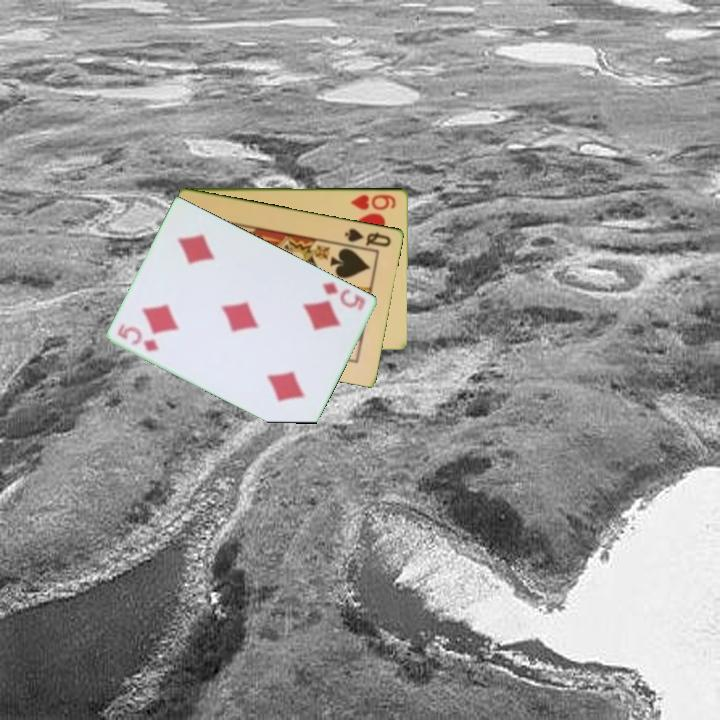5d: (319, 278, 369, 313), (114, 320, 163, 354)
6h: (347, 190, 399, 212)
Qs: (341, 224, 394, 250)
